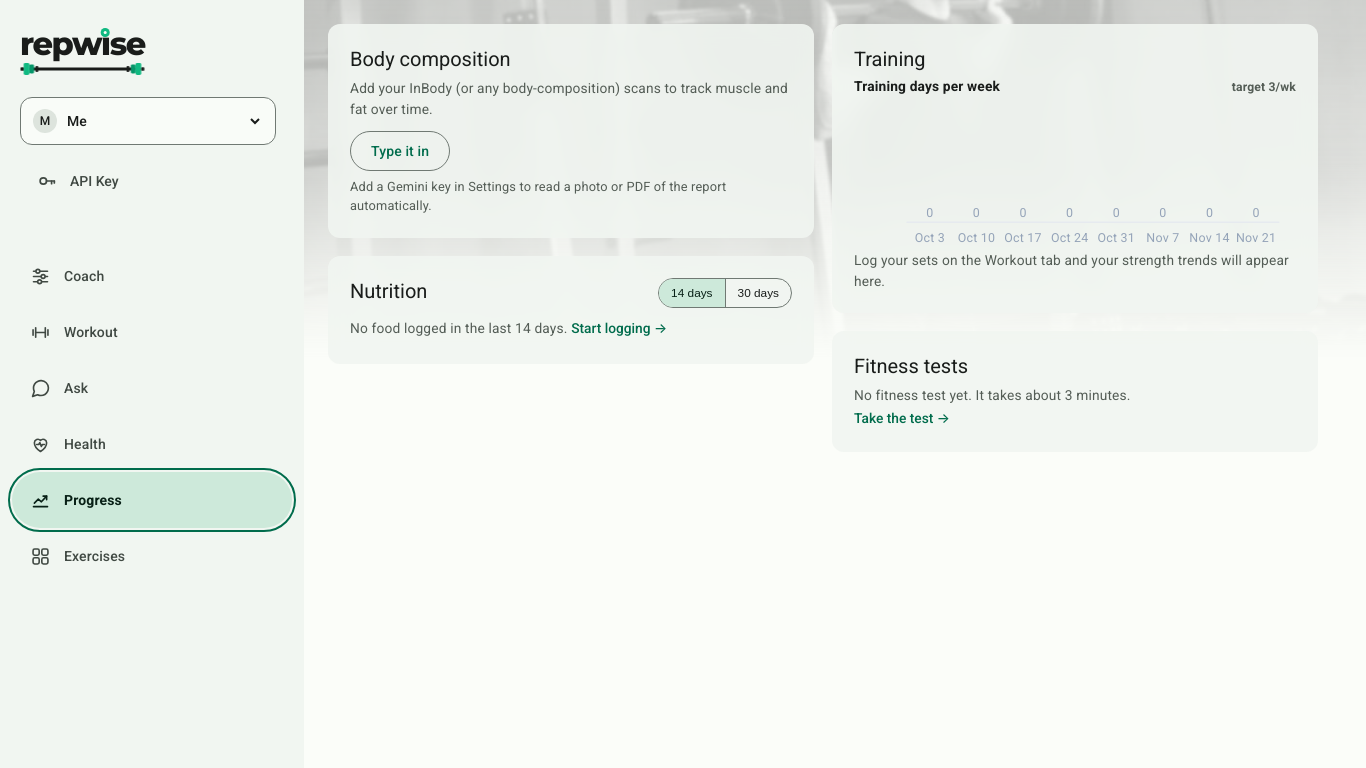
Test case: Progress tab › typing a scan in shows tiles, updates profile weight, and a second scan shows changes, insights and charts
Earlier steps of the test are not shown.
Later steps or results of the test are not shown.
Check: the text "Add your InBody" is shown, box [350,80,788,117]
Step 1. Click the button "Type it in" → (400, 151), box [350,131,450,171]
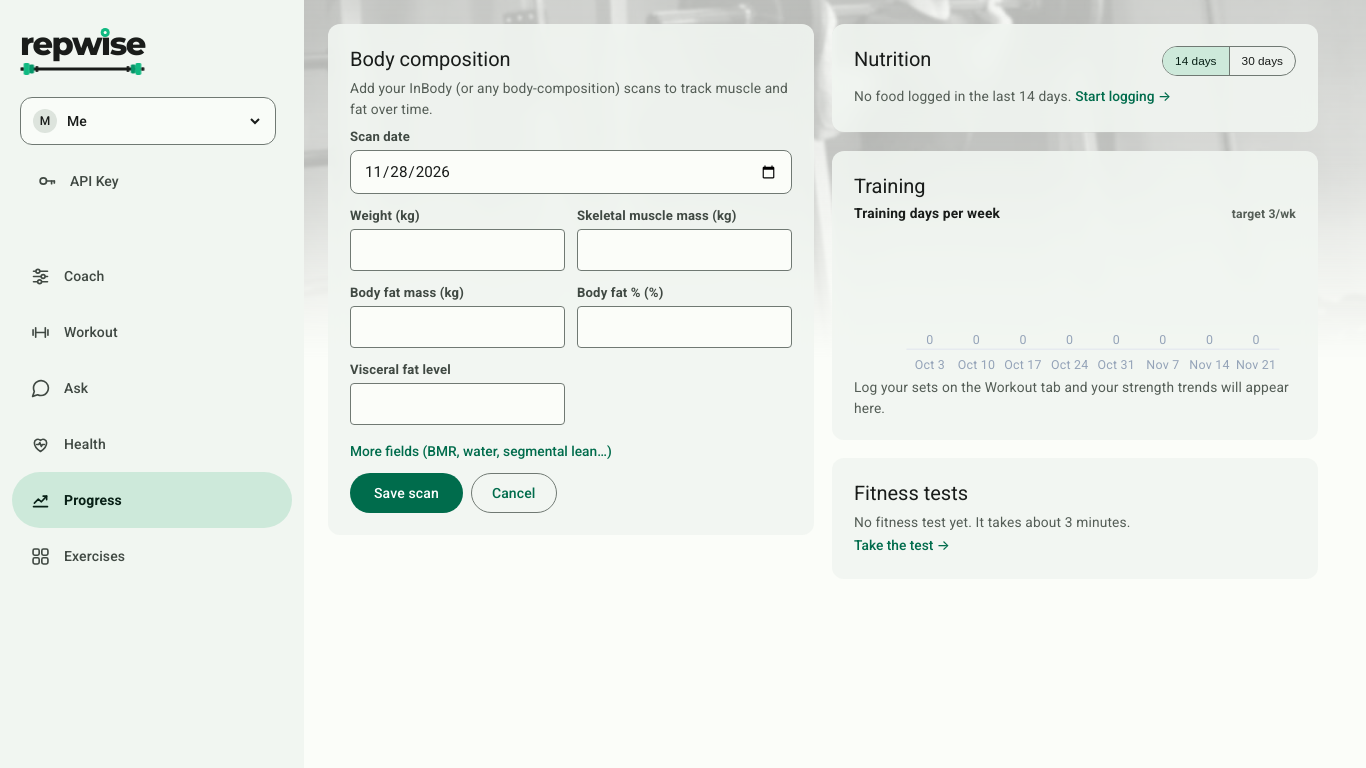
Step 2. Type "2026-07-01" into the date field labelled "Scan date" → (571, 172), box [350,150,792,194]
Step 3. Type "80" into the number field labelled "Weight (kg)" → (458, 250), box [350,229,565,271]
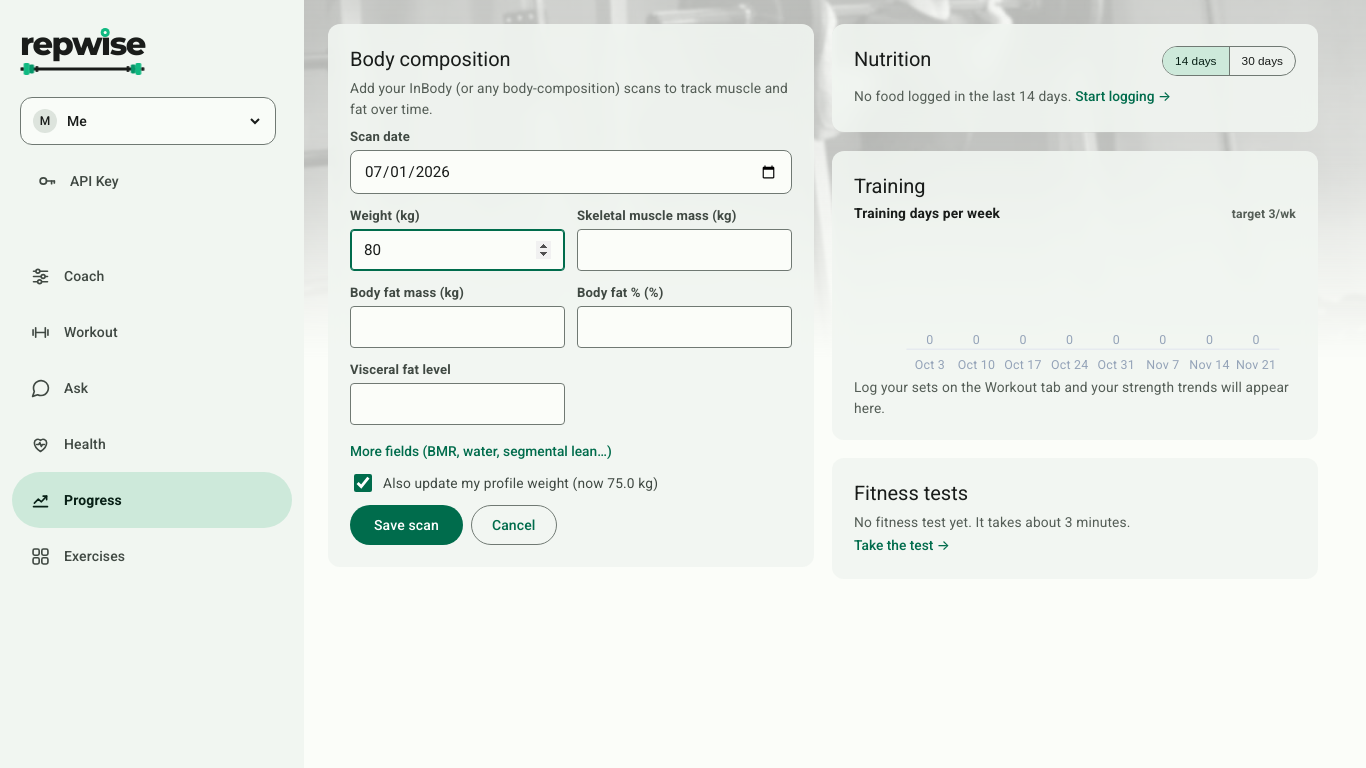
Step 4. Type "33" into the number field labelled "Skeletal muscle mass (kg)" → (684, 250), box [577,229,792,271]
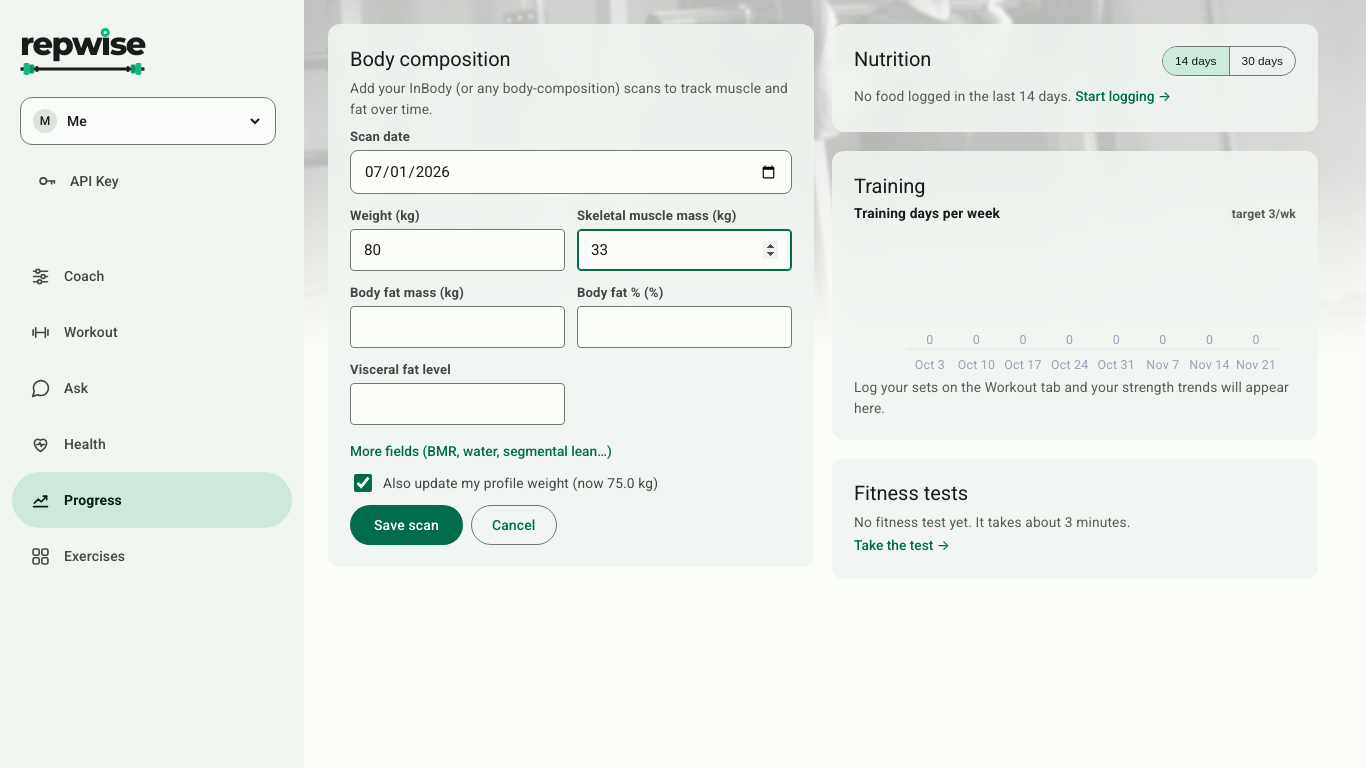
Step 5. Type "22.5" into the number field labelled "Body fat % (%)" → (684, 327), box [577,306,792,348]
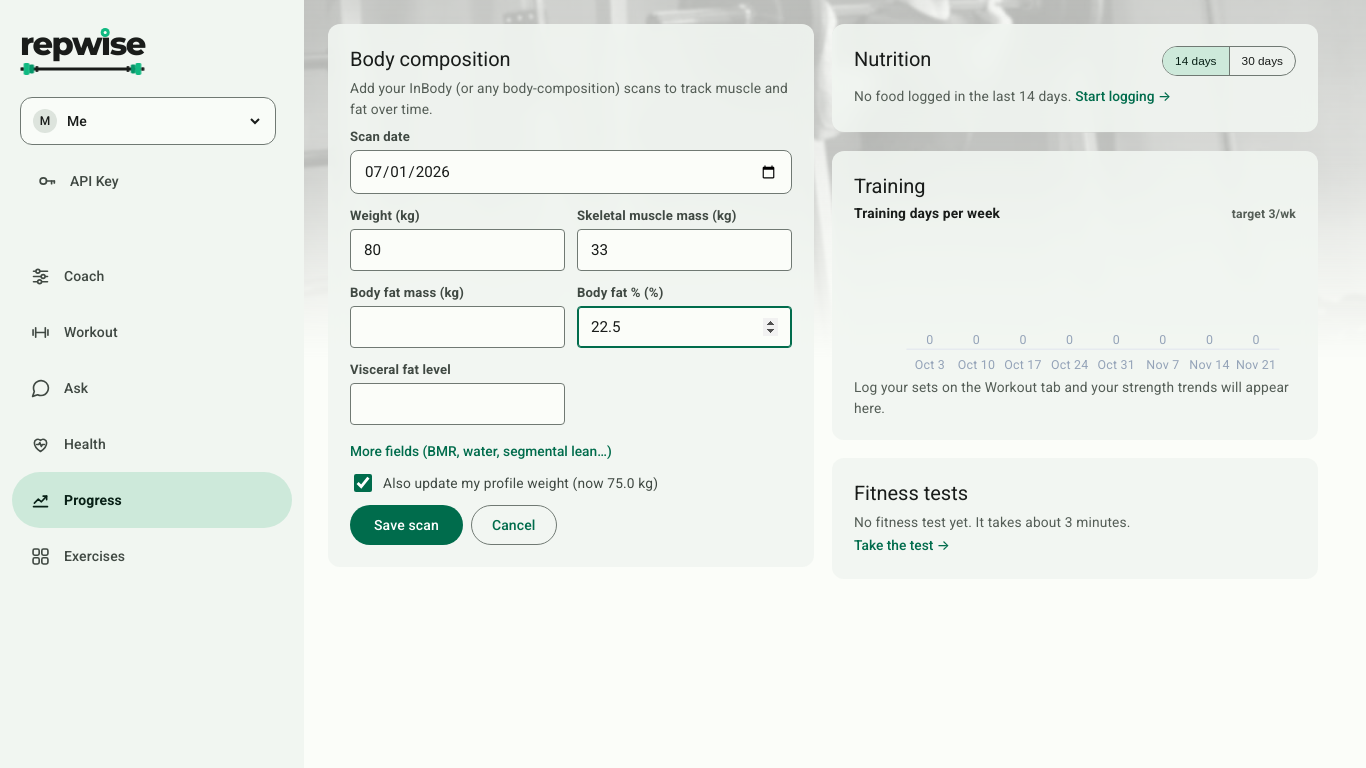
Step 6. Type "18" into the number field labelled "Body fat mass (kg)" → (458, 327), box [350,306,565,348]
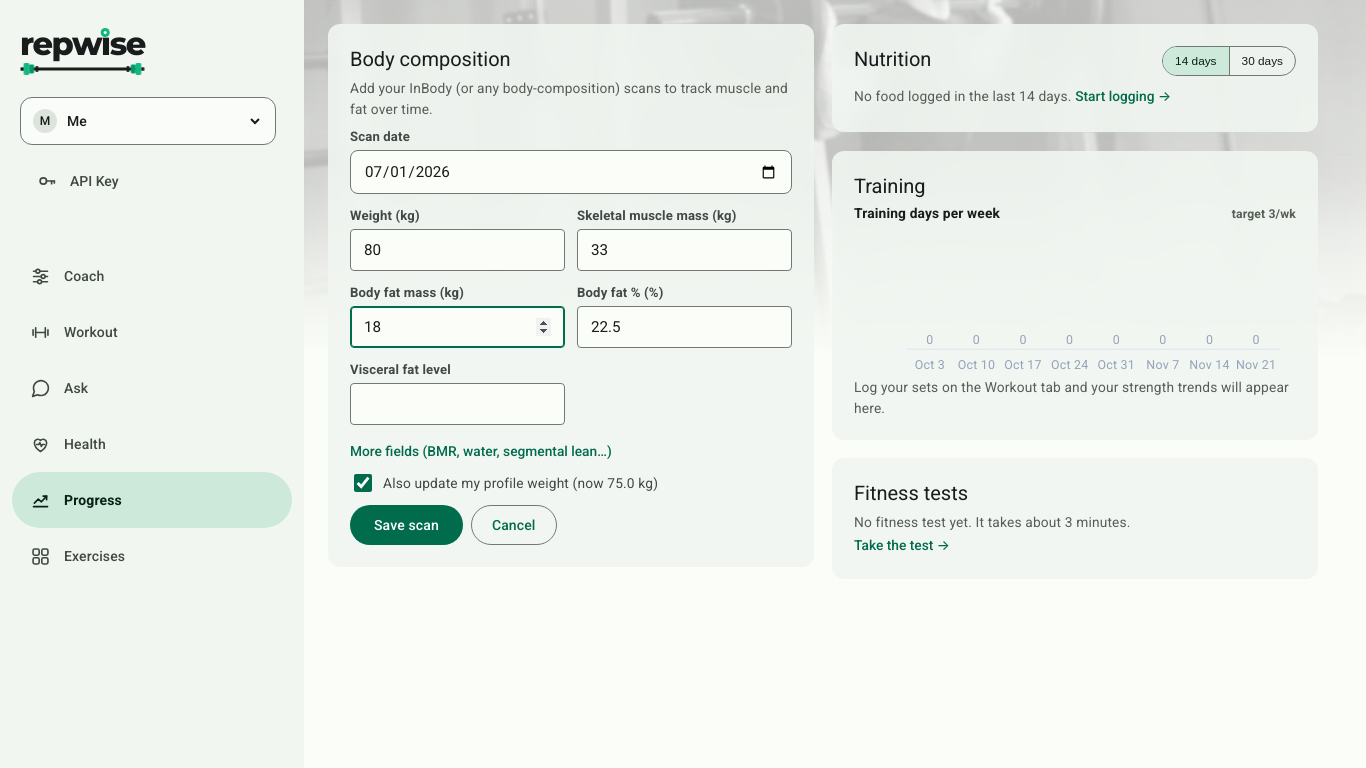
Step 7. Click the button "Save scan" → (406, 525), box [350,505,463,545]
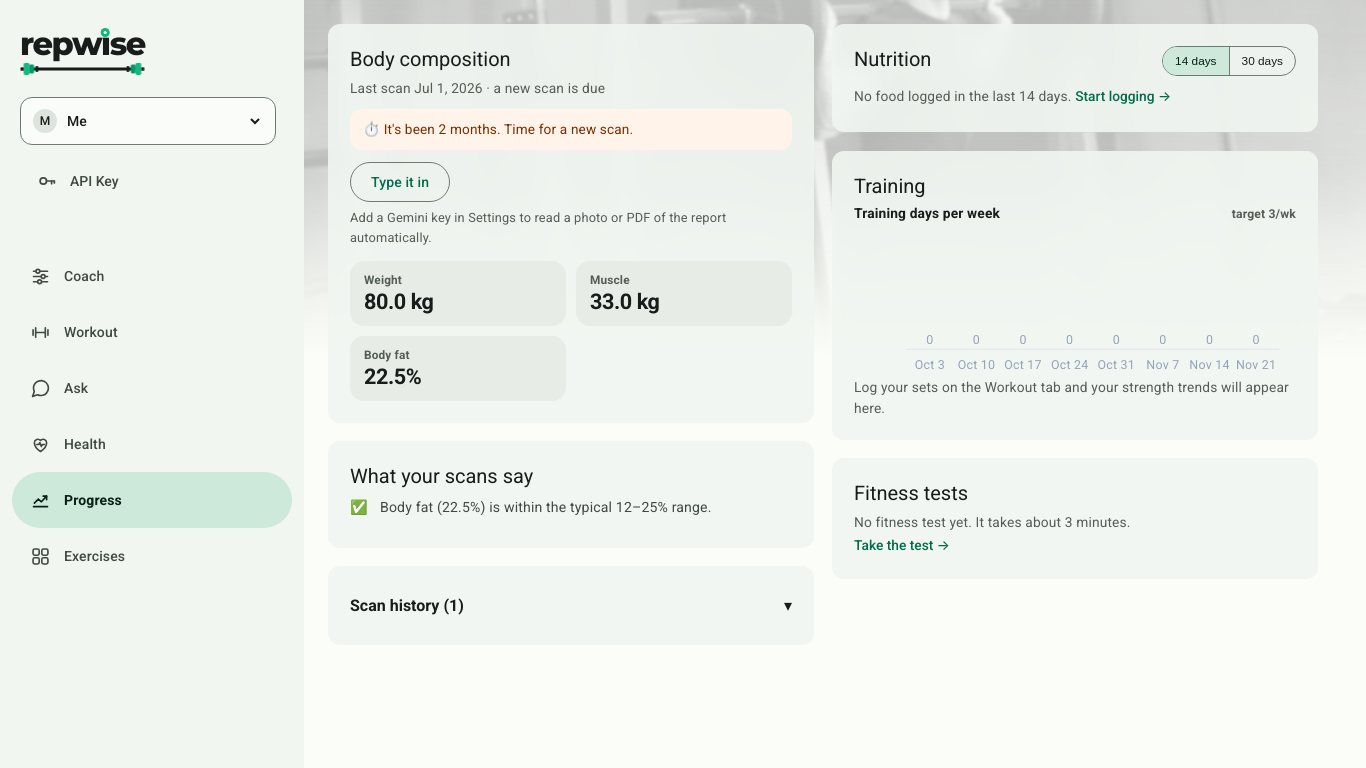
Check: the text "80.0 kg" is shown, box [364,289,433,314]
